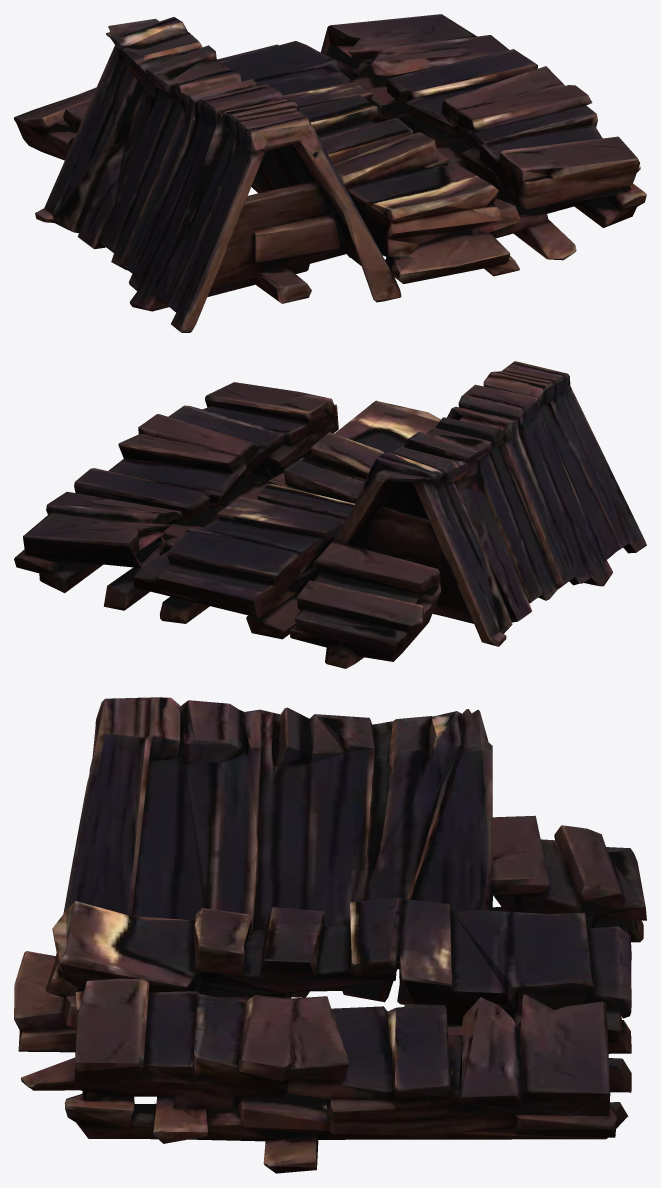
File: field_charred_beam_pile_01.glb
The picture shows the model from 3 angles, top to bottom: view 1: azimuth 30°, elevation 25°; view 2: azimuth 150°, elevation 25°; view 3: azimuth 270°, elevation 25°; orthographic projection. The views are drawn at different scales.
Visible parts, largest first — view 1: geometry_0; view 2: geometry_0; view 3: geometry_0.
Boxes of the visible parts, x1,y1,x2,y2 form: geometry_0: [14, 14, 646, 332]; geometry_0: [14, 361, 646, 668]; geometry_0: [14, 697, 646, 1173].
Size of the model in its own units: 0.999 by 0.368 by 0.8961.
1 material, 1 textured.
